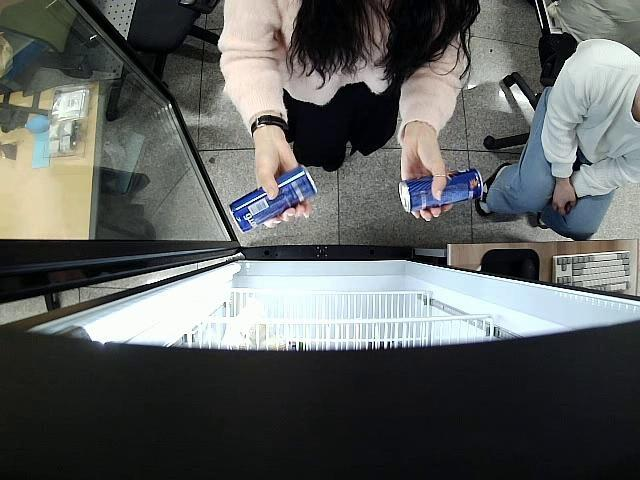16_hot6: (228, 162, 319, 232), (396, 164, 483, 214)
